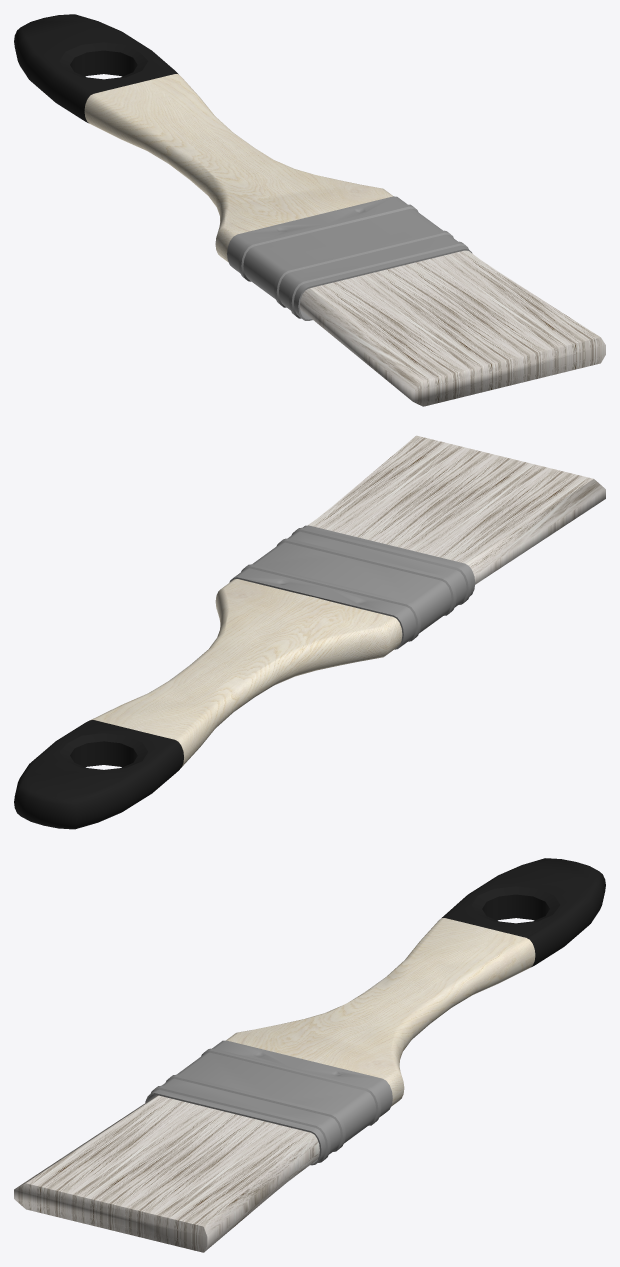
Rendered from Brush 2.FBX.
3 views of the same model, one above another, from view 1: azimuth 30°, elevation 25°; view 2: azimuth 150°, elevation 25°; view 3: azimuth 330°, elevation 25° (orthographic).
Parts seen in each view (by area): view 1: brush 2; view 2: brush 2; view 3: brush 2.
Part boxes in pixels (x1,y1,x2,y2): brush 2: [14, 14, 605, 406]; brush 2: [14, 435, 605, 829]; brush 2: [14, 858, 605, 1252].
Size of the model in its own units: 6.51 by 1.21 by 27.36.
2 materials, 1 textured.
